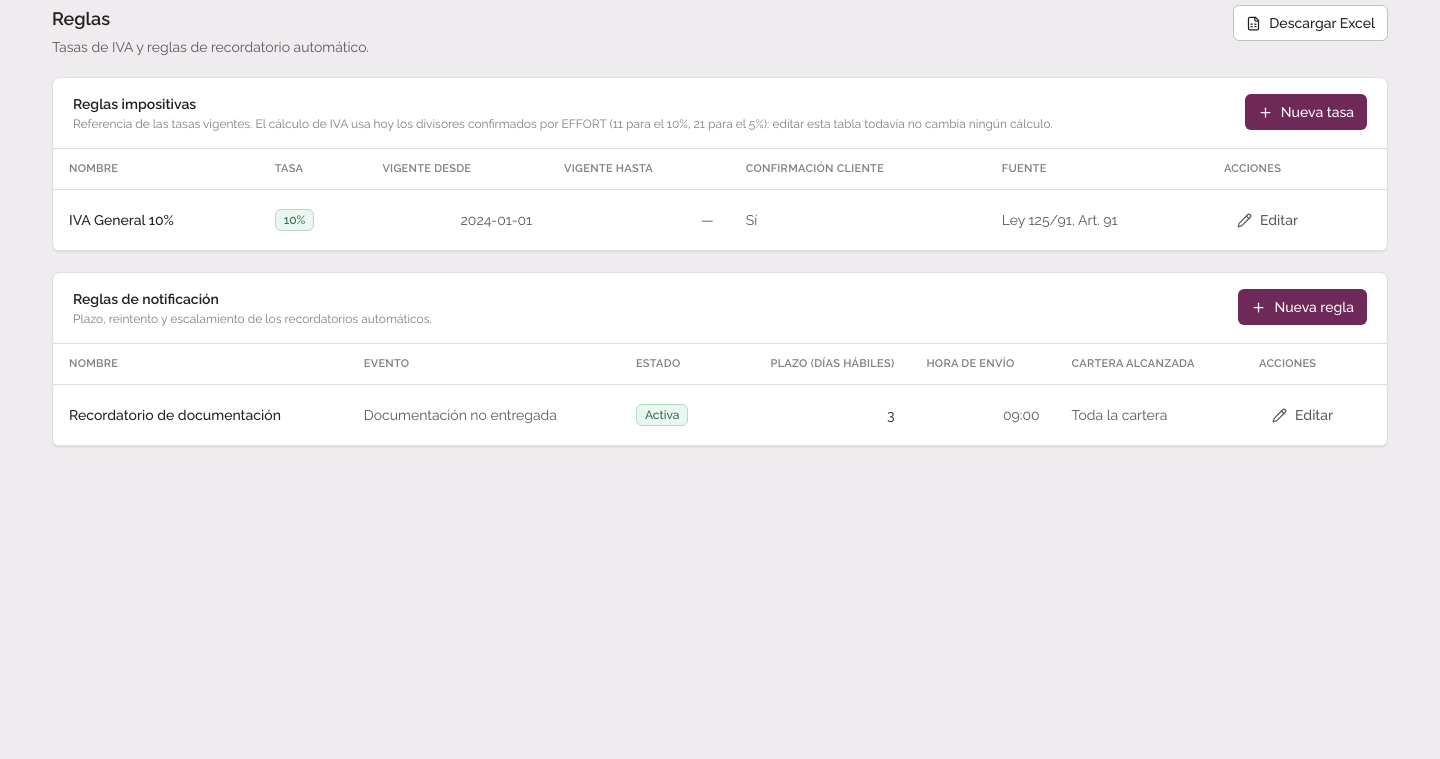
Scenario: pantalla de reglas › el editor de destinatarios agrega y quita filas
Expected: the text "IVA General 10%" is shown, [53,190,259,250]
Expected: the text "Recordatorio de documentación" is shown, [53,384,348,446]
Click the button "Nueva regla".
click(1303, 307)  # box [1238,289,1367,325]
(page scrolled)
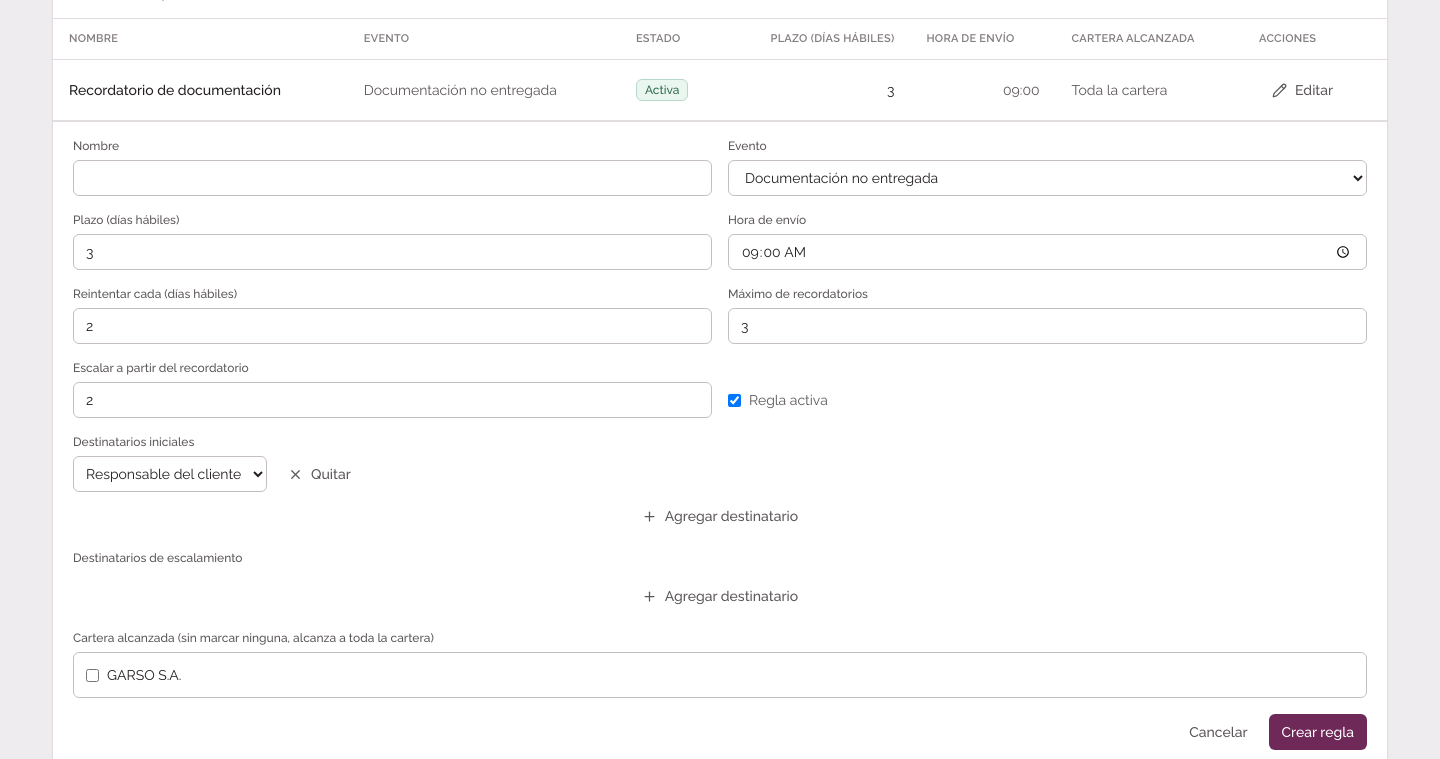
Expected: the number of dropdowns named "Destinatarios iniciales — tipo" is 1, [73,456,267,492]
Click the button "Agregar destinatario" below "Destinatarios iniciales".
click(720, 516)  # box [73,498,1367,534]
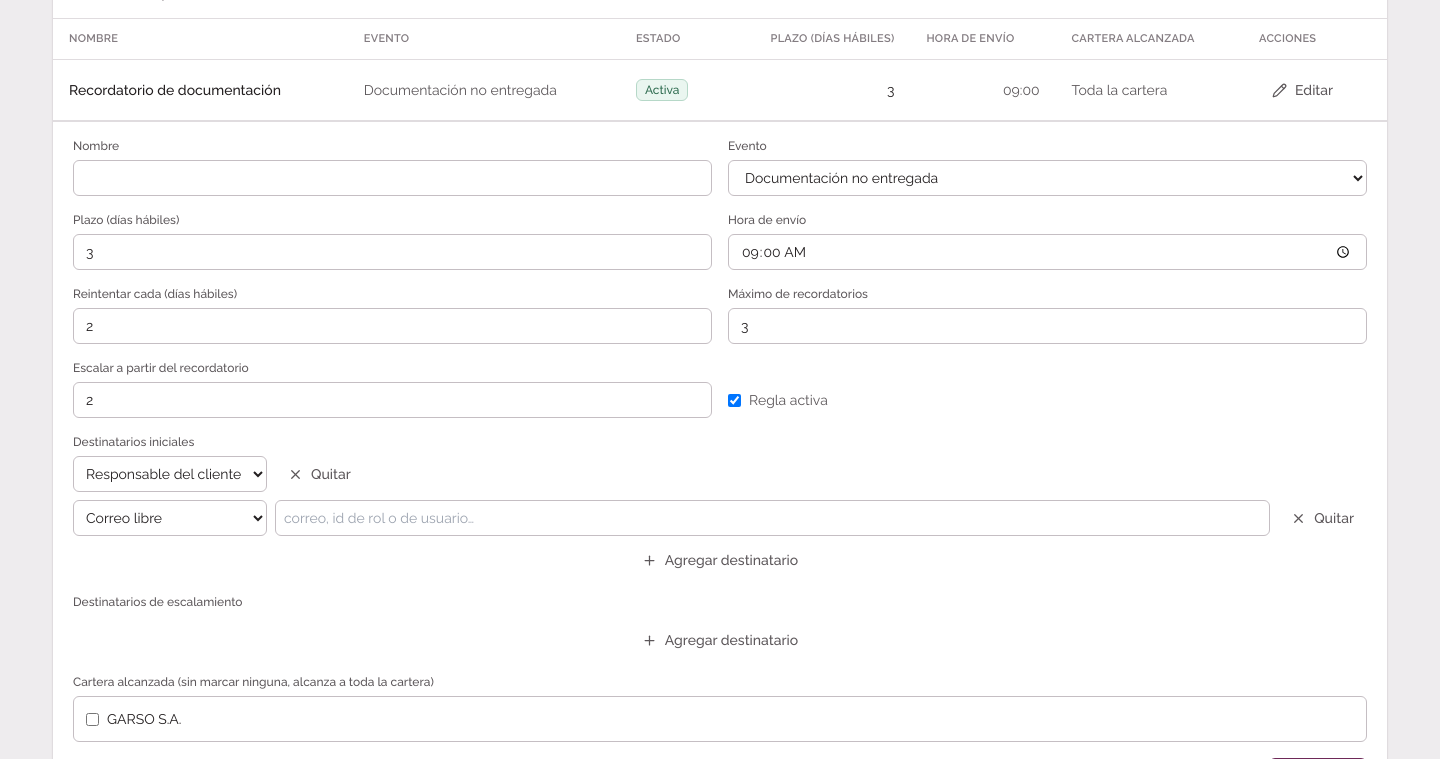
Expected: the number of dropdowns named "Destinatarios iniciales — tipo" is 2
Select "Correo libre" in the dropdown named "Destinatarios iniciales — tipo 2" at (170, 518), box [73,500,267,536]
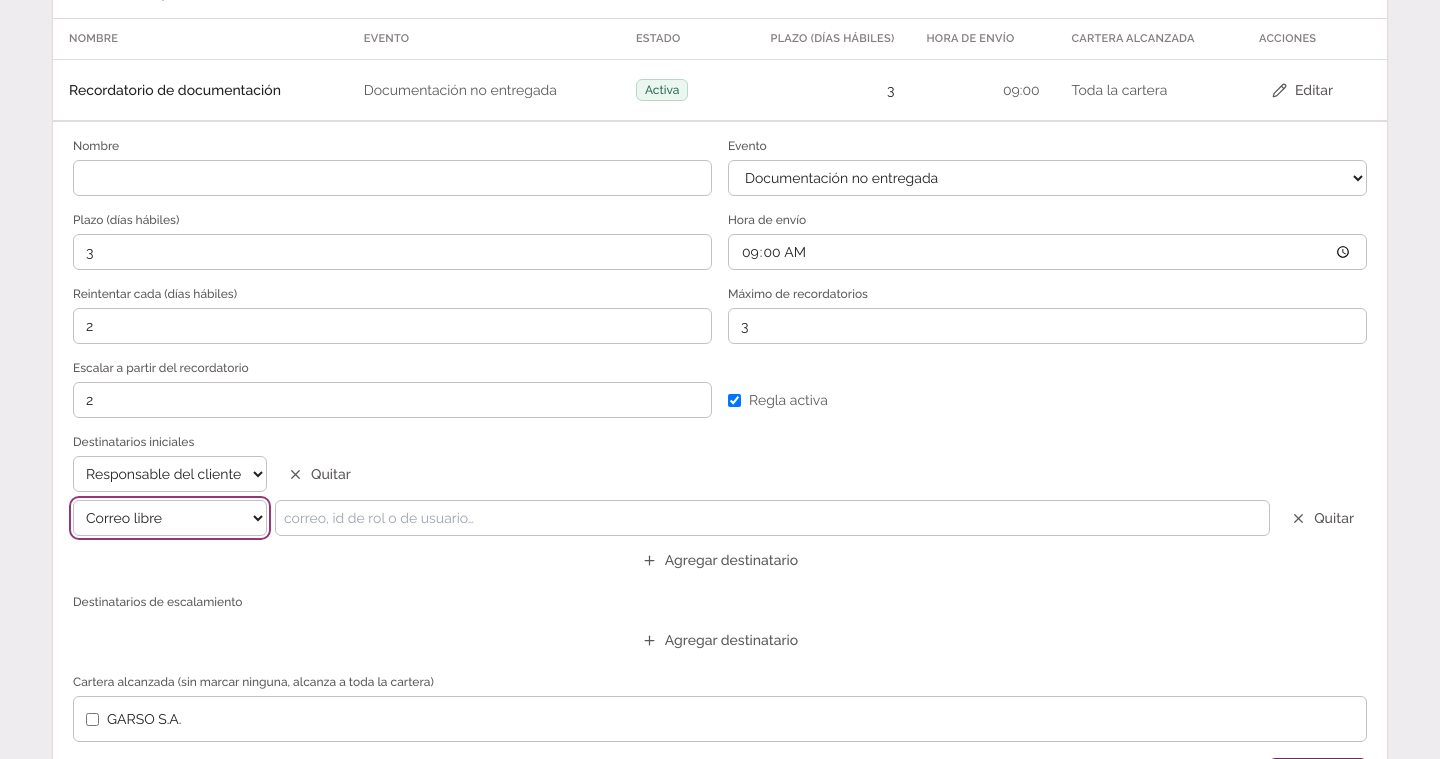
Type "contacto@garso.com.py" into the field named "Destinatarios iniciales — valor 2".
click(773, 518); type("contacto@garso.com.py")  # box [275,500,1270,536]
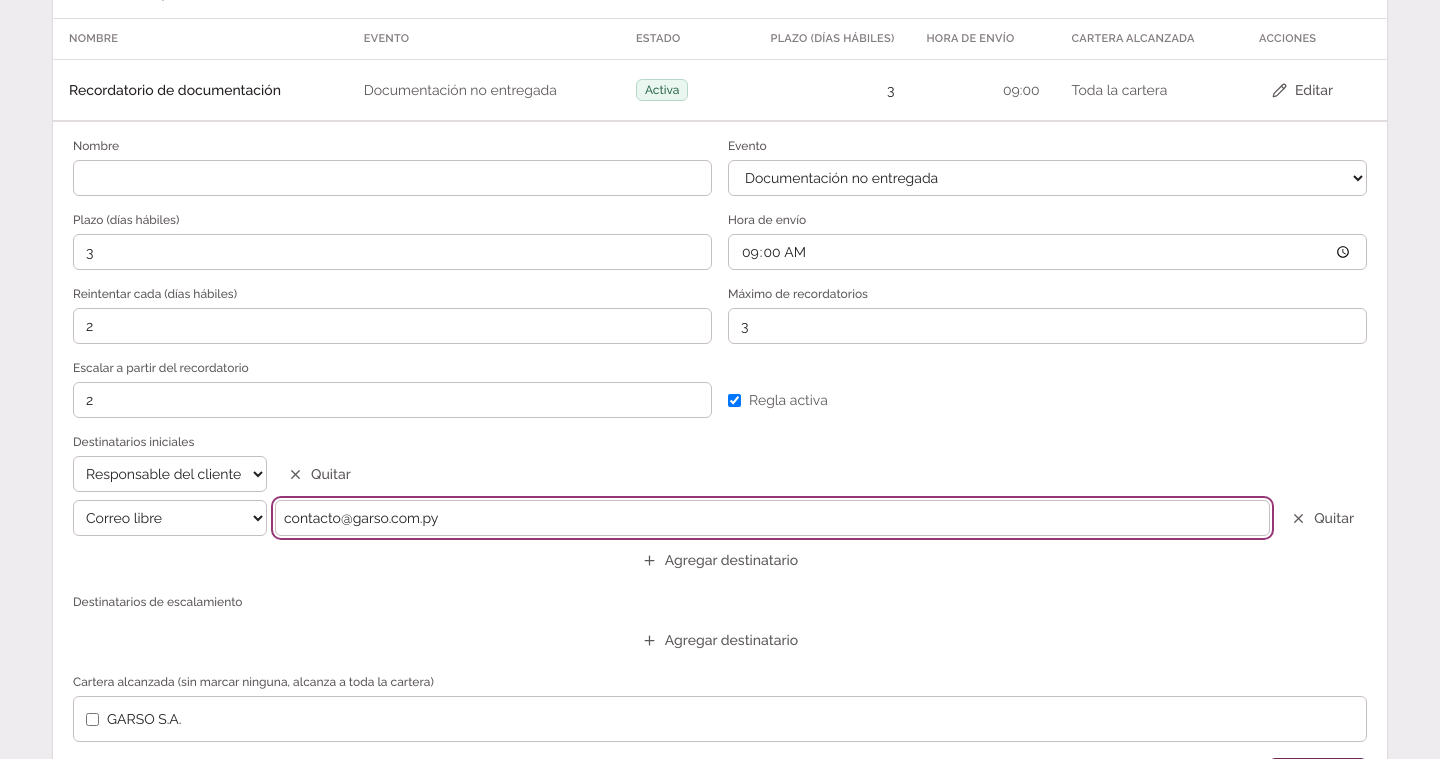
Click the button with aria-label "Quitar destinatario 1 de Destinatarios iniciales".
click(319, 474)  # box [275,456,364,492]
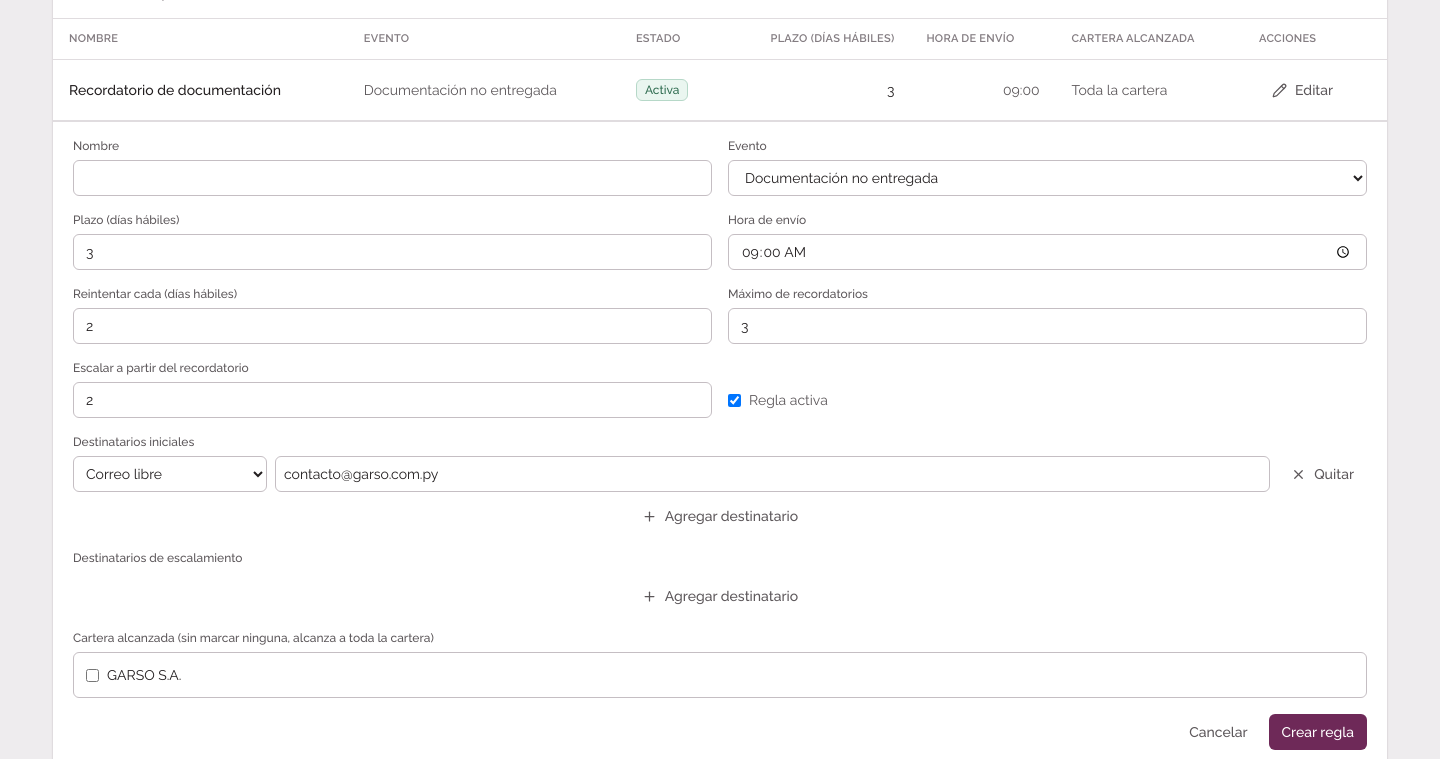
Expected: the field named "Destinatarios iniciales — valor 1" holds "contacto@garso.com.py", [275,456,1270,492]
Expected: the number of dropdowns named "Destinatarios iniciales — tipo" is 1, [73,456,267,492]
